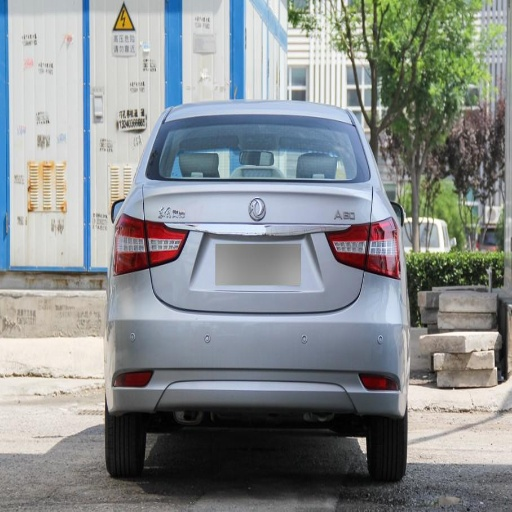back_bumper: (104, 269, 413, 429)
tailgate: (123, 177, 371, 312)
